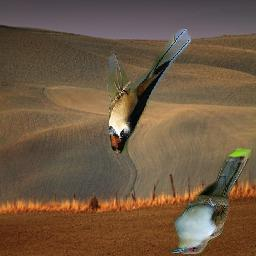Cuckoo: (169, 148, 251, 254)
Swallow: (109, 30, 191, 155)
